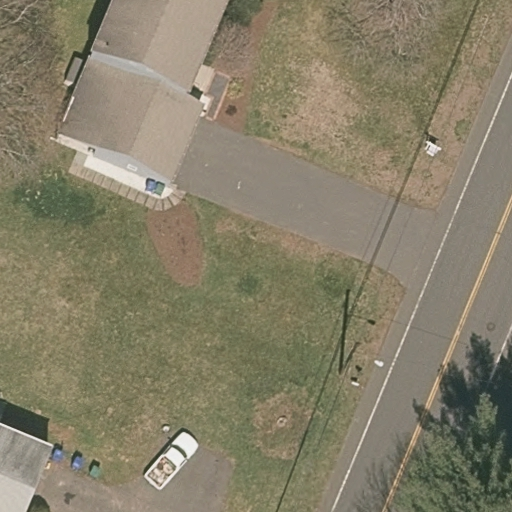DT: (337, 348, 383, 388)
